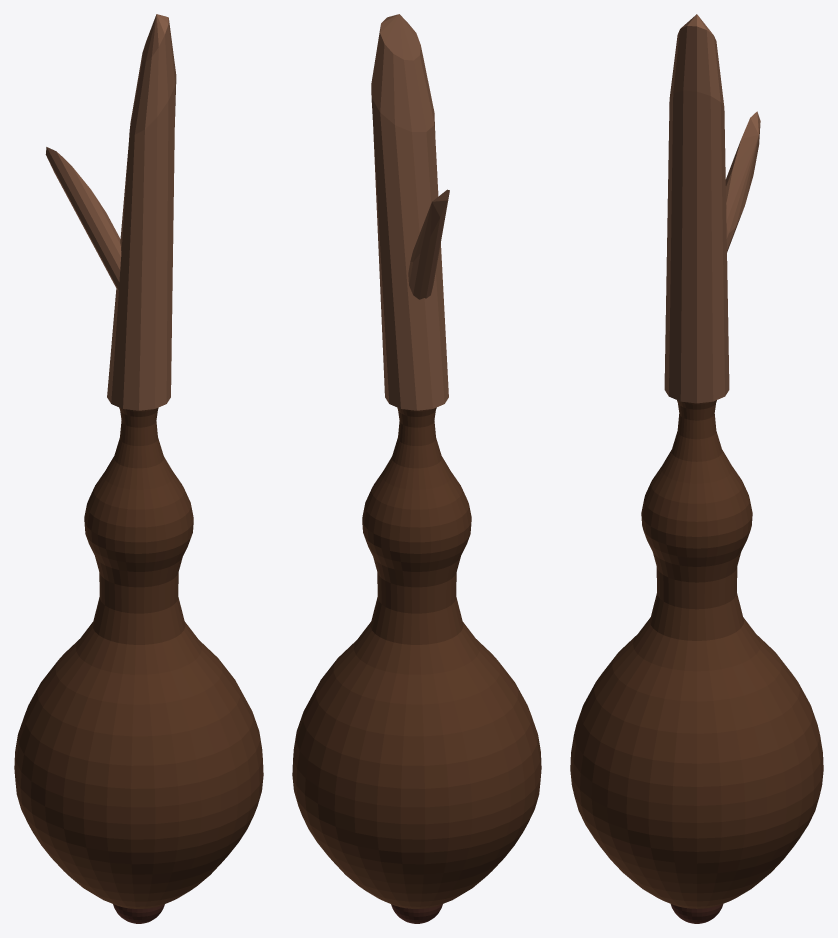
Rendered from Wand 663.glb.
The picture shows the model from 3 angles, left to right: view 1: azimuth 30°, elevation 25°; view 2: azimuth 150°, elevation 25°; view 3: azimuth 270°, elevation 25°; orthographic projection.
Visible parts, largest first — view 1: GeneratedWand; view 2: GeneratedWand; view 3: GeneratedWand.
Boxes of the visible parts, x1,y1,x2,y2 form: GeneratedWand: (14,14,263,923); GeneratedWand: (292,14,541,923); GeneratedWand: (570,14,823,923).
Bounding box in the file's own units: 0.123 × 0.4906 × 0.123.
